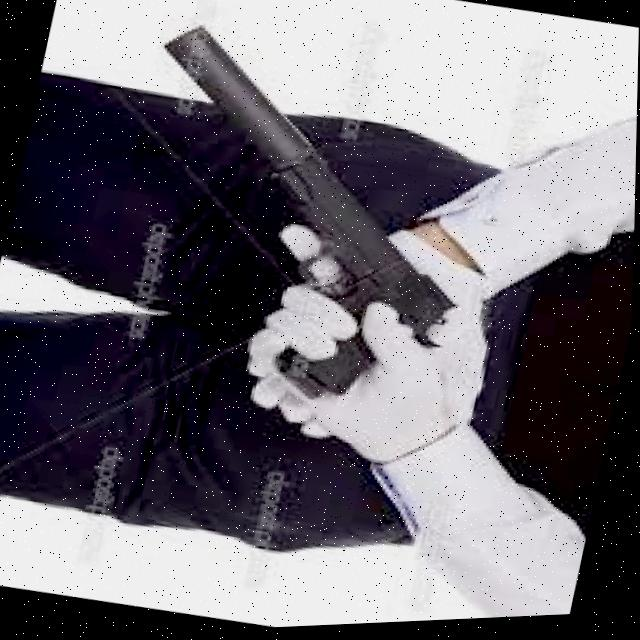pistol: (107, 12, 509, 367)
